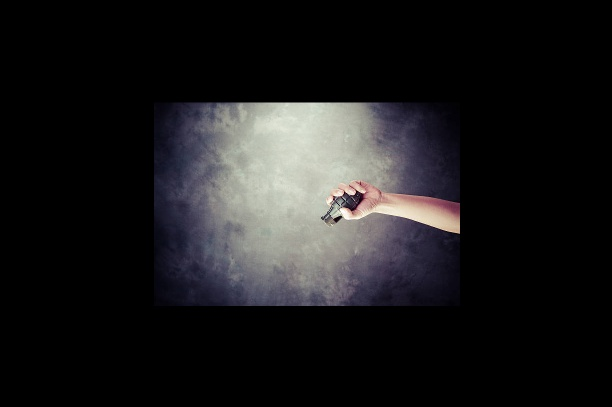e1: (318, 183, 365, 230)
